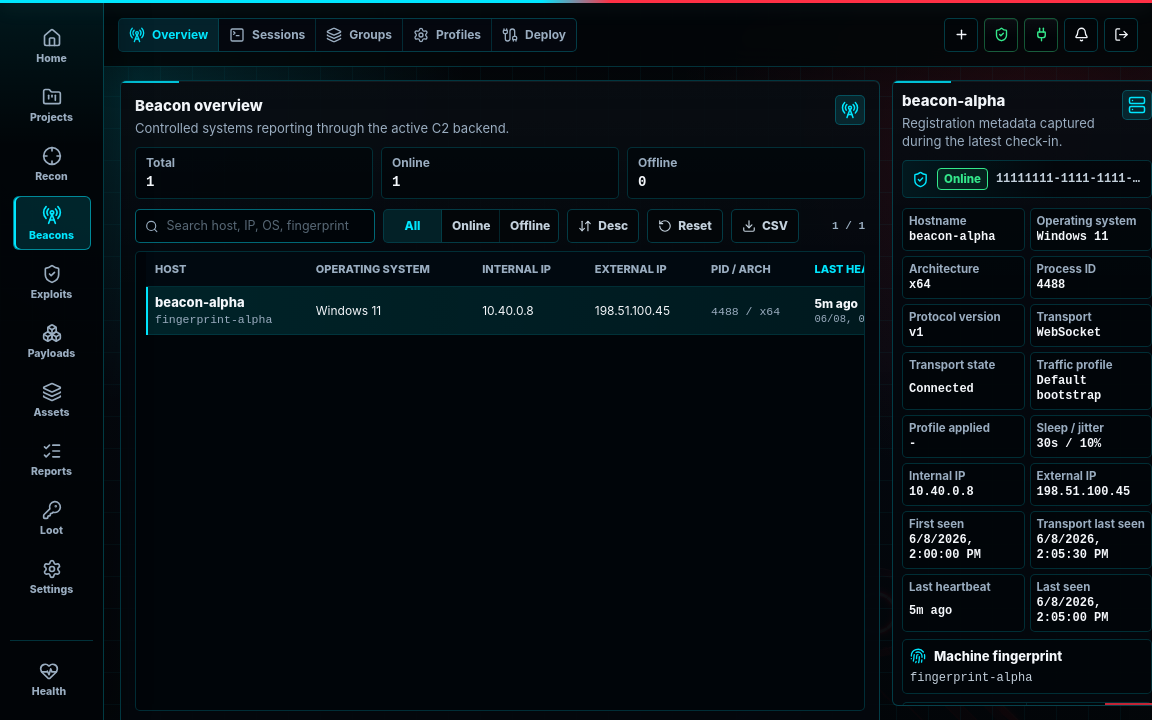
Test: BeaconsPage › assigns a traffic profile from the beacon operations modal
Double-click the row named "Host beacon-alpha" at (649,310), box [146, 286, 1151, 334]
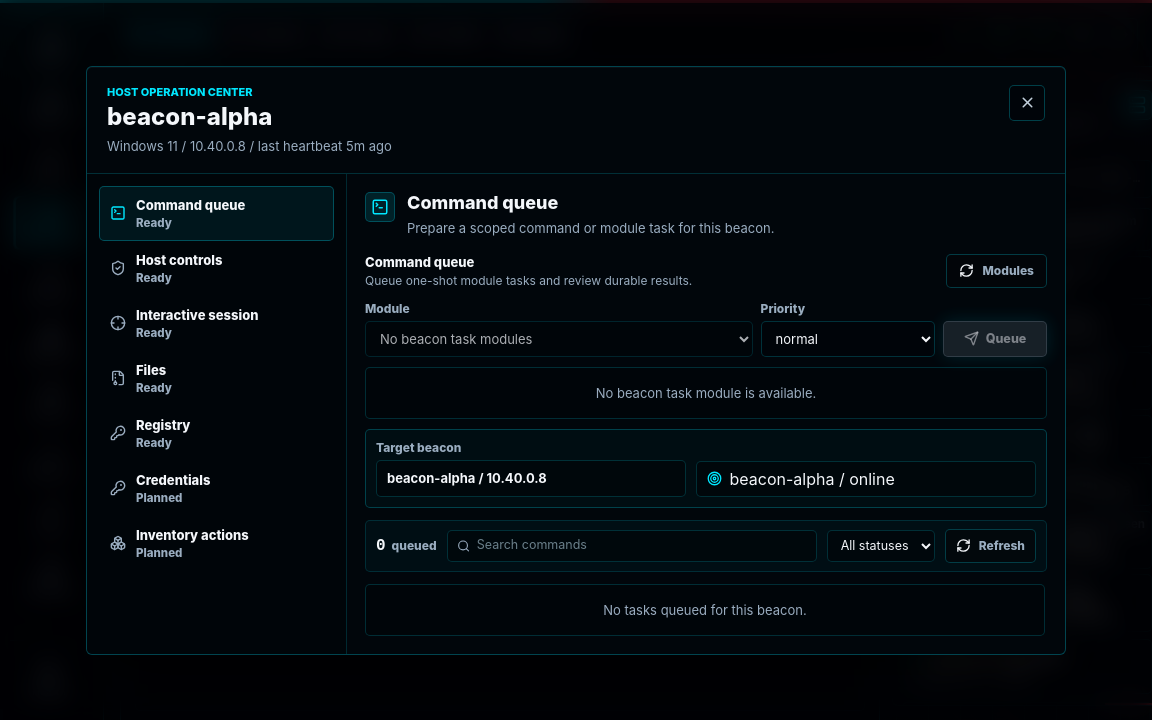
Click the button "Host controls Ready" at (216,268), box [99, 240, 334, 296]
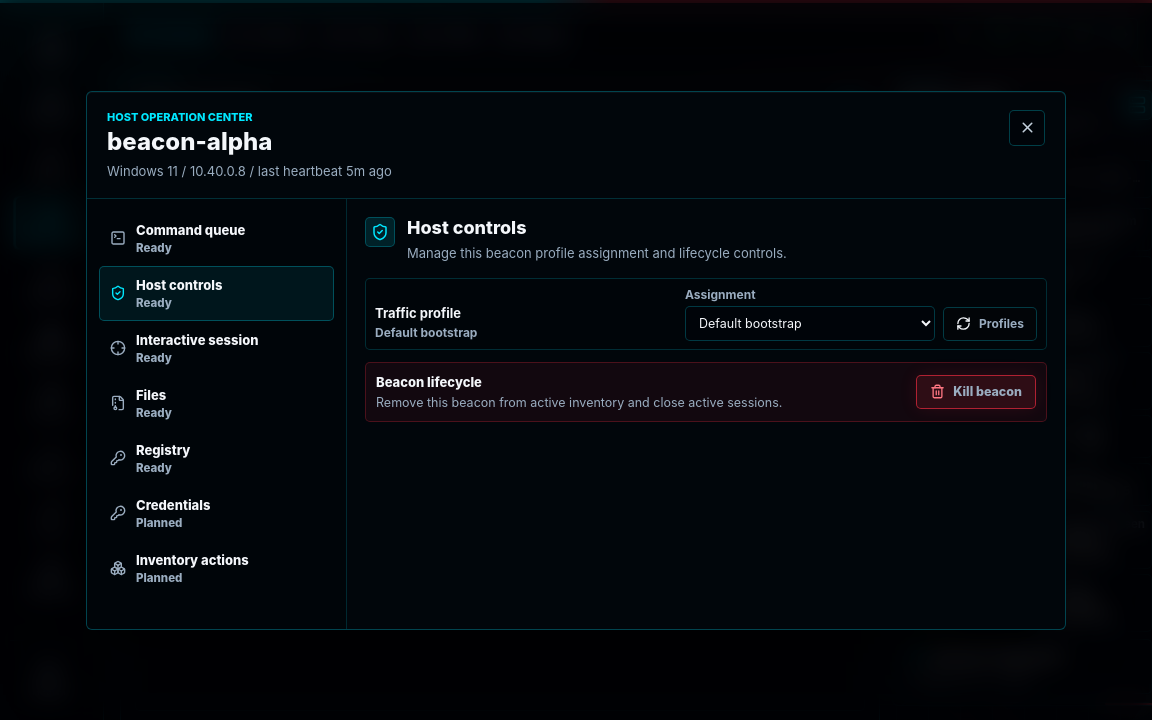
Select "CloudFront CDN / v1" in the dropdown named "Beacon traffic profile" at (810,323), box [685, 306, 935, 340]
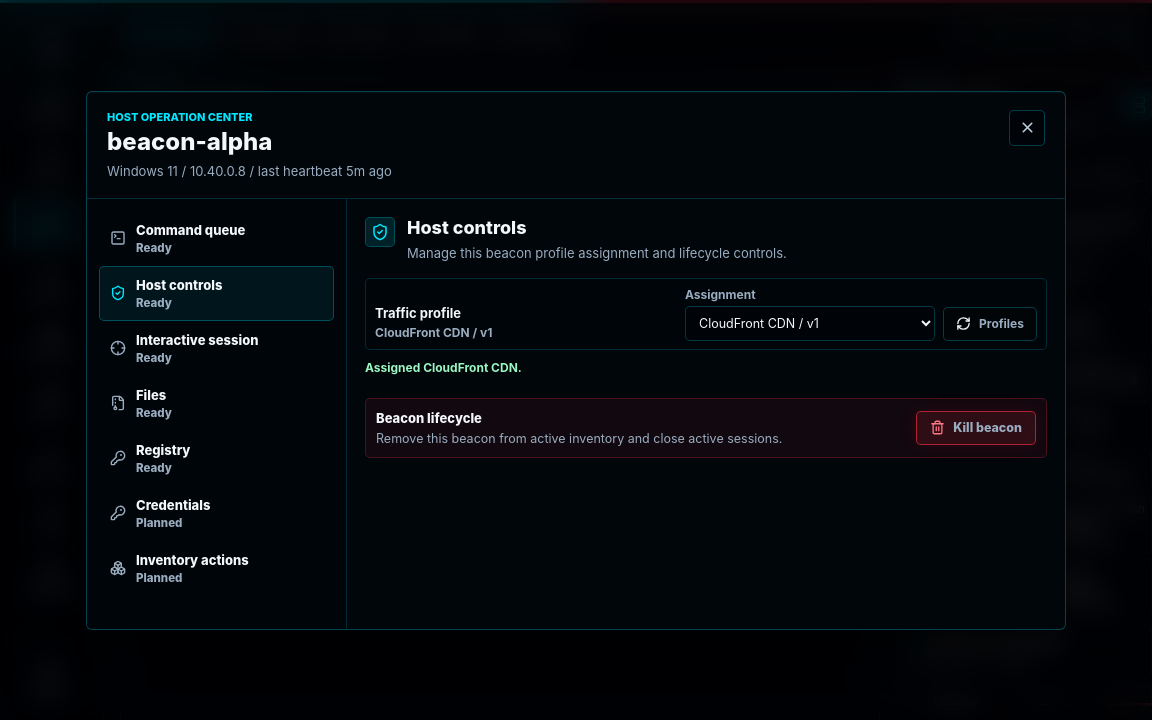
expect the text "Assigned CloudFront CDN." is shown: met, box [365, 360, 522, 374]
expect the text "CloudFront CDN / v1" is shown: met, box [375, 324, 492, 340]
